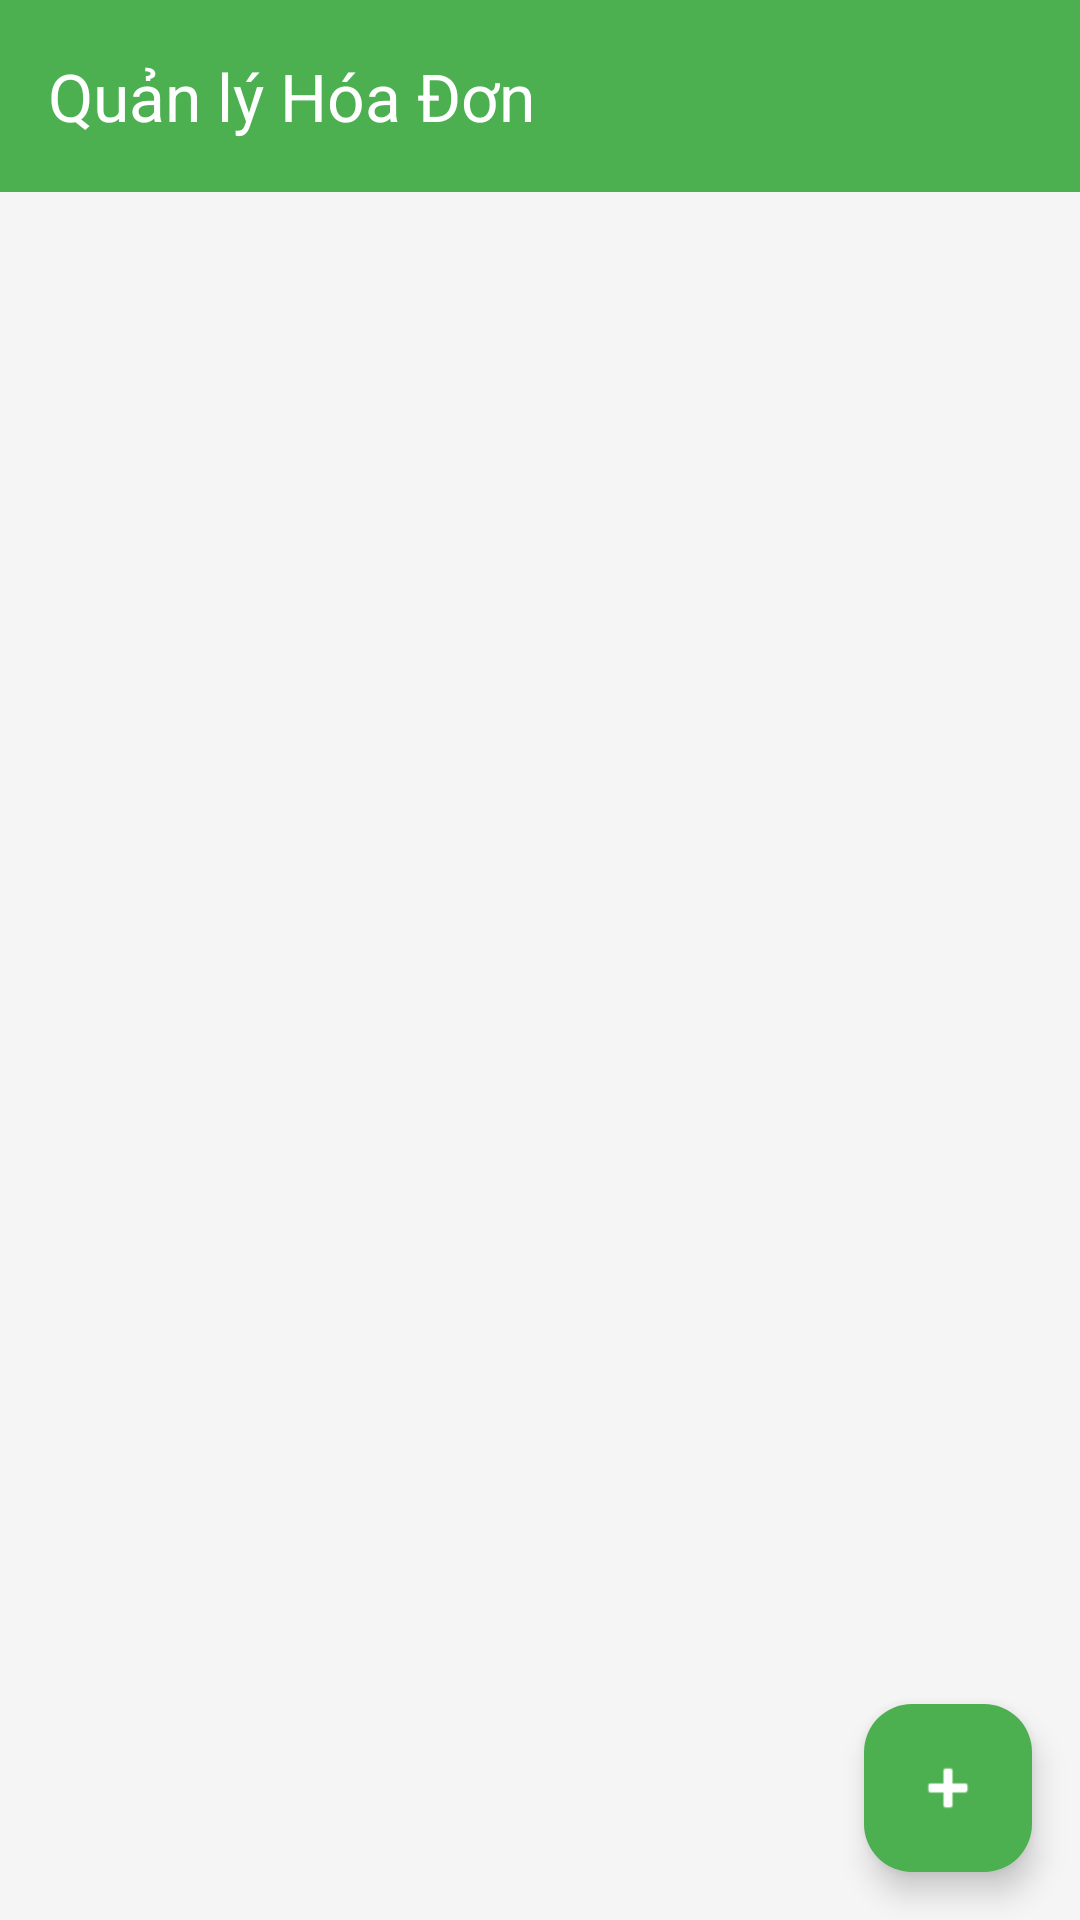

Screen size 1080px×1920px. Icon name, then its box in pixels as (x1, y1, x2, y2):
Thêm hóa đơn: (864, 1704, 1032, 1872)
